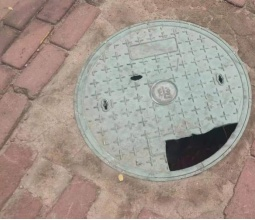well: (76, 16, 251, 181)
